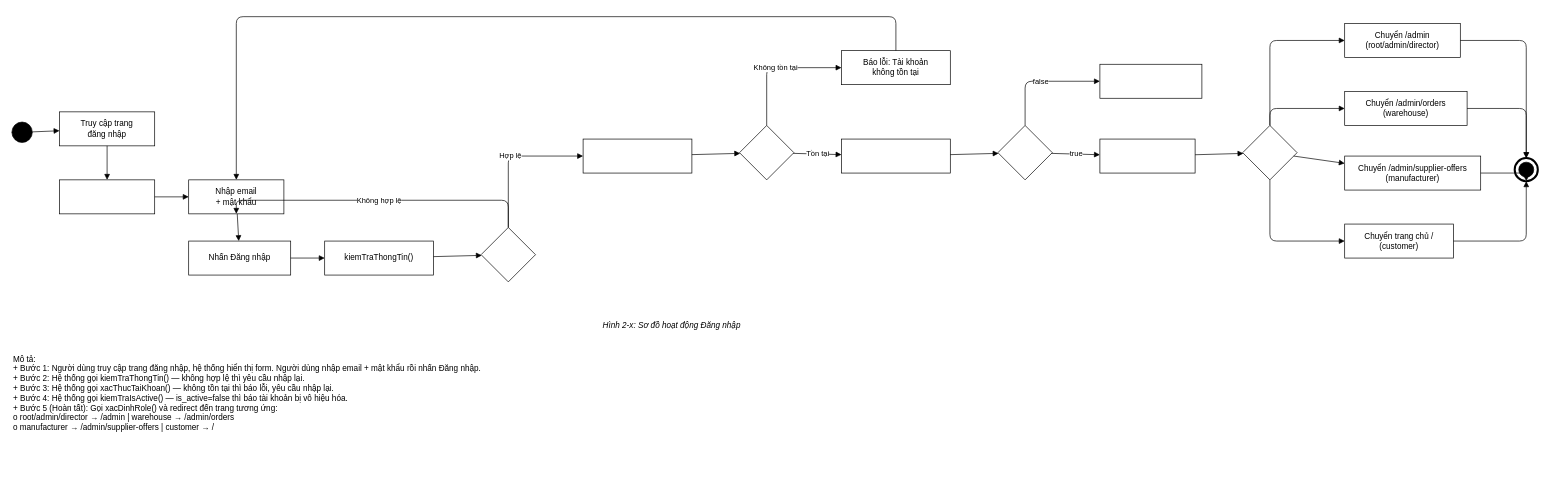
Some shapes in this 1550 by 477 pixel diagram are drawn without their labels. The shapes that lost their labels are listed below. From the top down, each one's box as (x1, y1, x2, y2) in pixels, then its label:
(1099, 64, 1202, 98): Báo: Tài khoản bị vô hiệu hóa
(582, 138, 692, 173): xacThucTaiKhoan()
(841, 138, 950, 173): kiemTraIsActive()
(1099, 138, 1195, 173): xacDinhRole()
(59, 179, 155, 214): Hiển thị form đăng nhập
